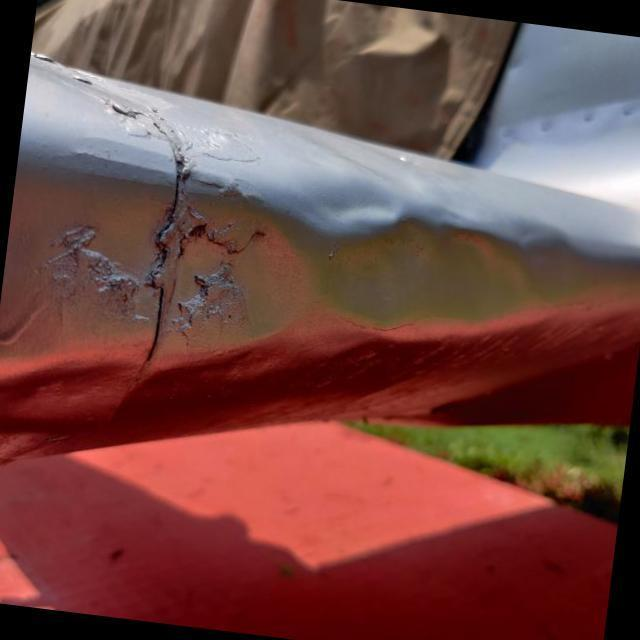dent: (312, 217, 562, 325)
